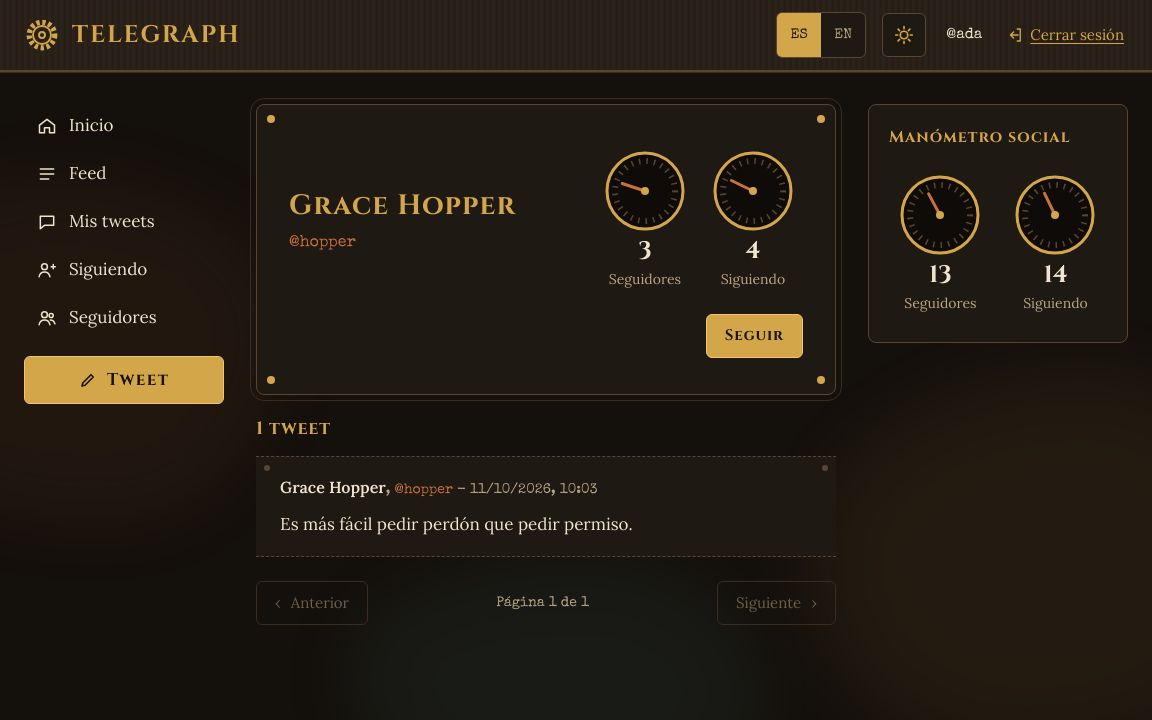
Scenario: User tweets page (M1-16) › shows "Seguir" on a profile I do not follow; following adds one follower
Expected: the heading "Grace Hopper" is shown, [289,186,516,224]
Click the button "Seguir".
click(754, 336)  # box [706,314,803,358]
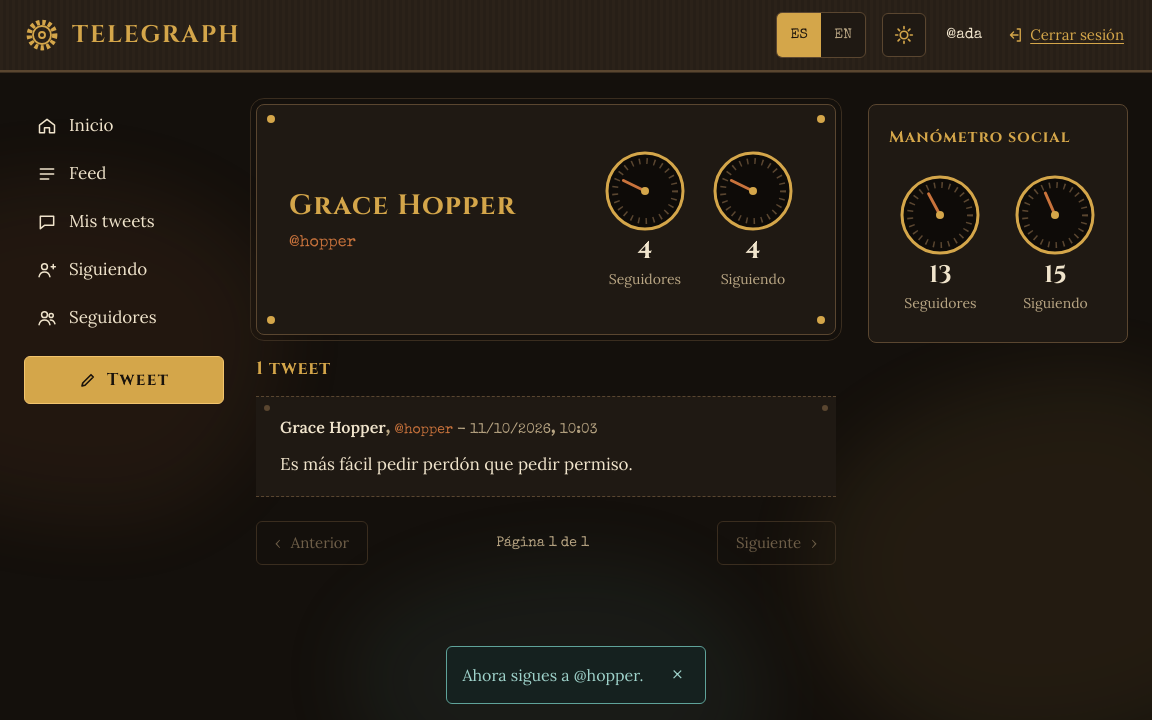
Result: the button "Seguir" is gone
